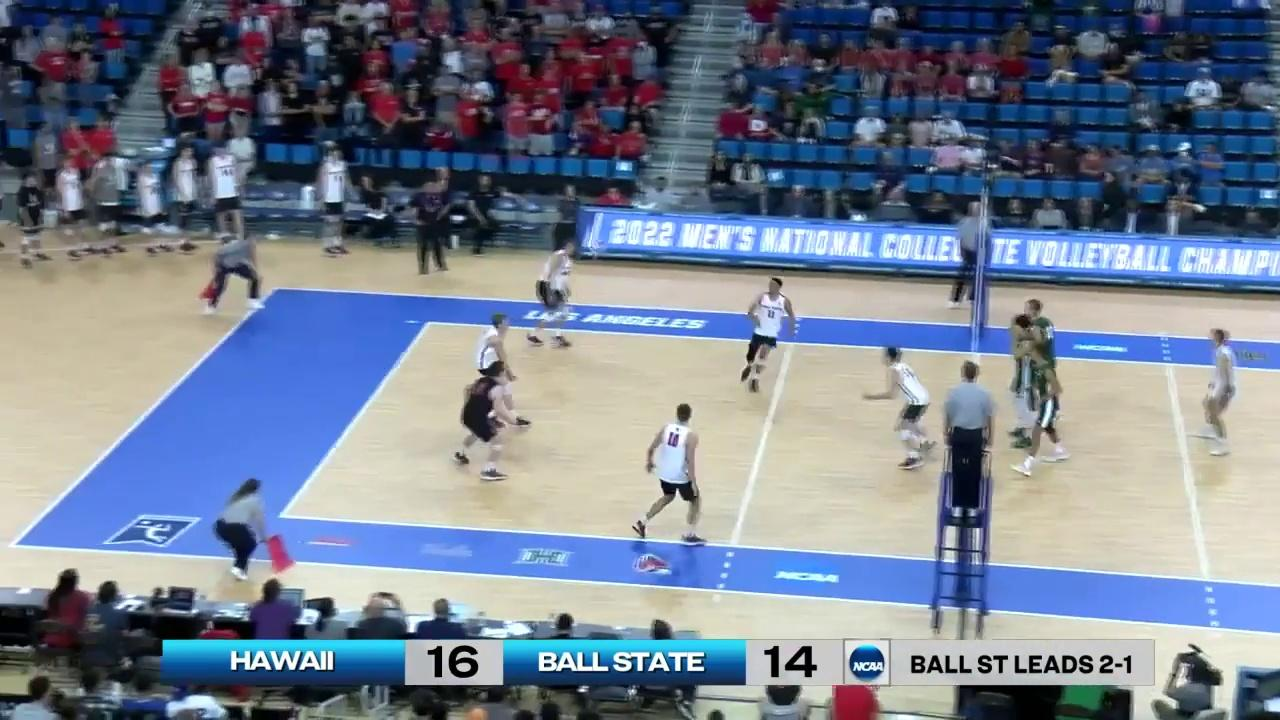player: (640, 402, 709, 538), (450, 360, 520, 480), (870, 346, 935, 469), (1013, 343, 1070, 476), (468, 313, 529, 429), (737, 277, 794, 393), (1005, 314, 1050, 450), (1195, 326, 1240, 454), (526, 241, 575, 349), (1023, 296, 1056, 432)
refree: (939, 363, 1000, 519), (216, 474, 276, 581), (203, 228, 269, 317), (953, 201, 989, 309)
